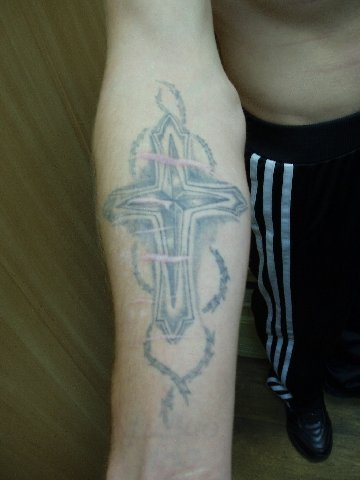tatu9_krest: (98, 107, 250, 354)
